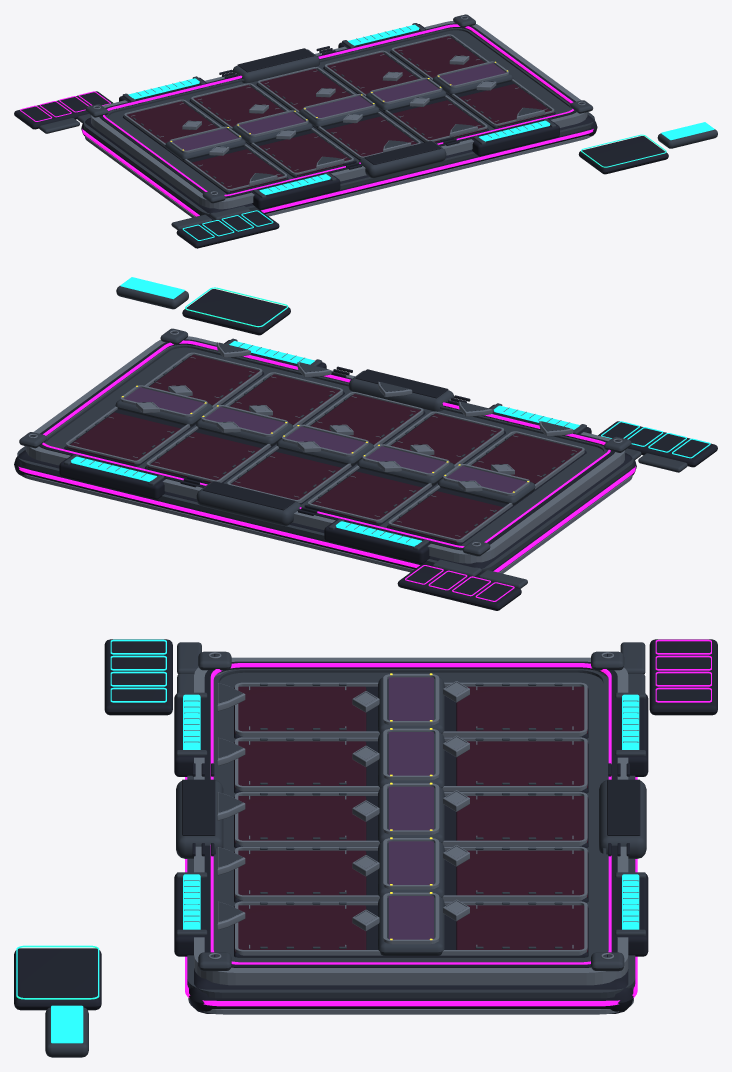
File: ouroboros-board-v4-base.glb
3 renders of one model, top to bottom at view 1: azimuth 30°, elevation 25°; view 2: azimuth 150°, elevation 25°; view 3: azimuth 270°, elevation 25°, orthographic. The views are drawn at different scales.
Parts seen in each view (by area): view 1: Table_wine-black_field_glass, Table_graphite_titanium, Table_obsidian_polymer, Table_milled_gunmetal, Table_magenta_inlay, Table_Location_smoked_violet, Table_cyan_Data_Center_core, opponent_resource_screen, local_resource_screen; view 2: Table_wine-black_field_glass, Table_graphite_titanium, Table_obsidian_polymer, Table_milled_gunmetal, Table_magenta_inlay, Table_Location_smoked_violet, Table_cyan_Data_Center_core, opponent_resource_screen, local_resource_screen; view 3: Table_wine-black_field_glass, Table_milled_gunmetal, Table_graphite_titanium, Table_obsidian_polymer, Table_Location_smoked_violet, Table_magenta_inlay, Table_cyan_Data_Center_core, local_resource_screen, opponent_resource_screen.
Boxes of the visible parts, x1,y1,x2,y2 form: Table_wine-black_field_glass: (127, 36, 553, 191); Table_graphite_titanium: (39, 14, 717, 230); Table_obsidian_polymer: (14, 17, 668, 248); Table_milled_gunmetal: (85, 16, 591, 217); Table_magenta_inlay: (20, 24, 593, 216); Table_Location_smoked_violet: (172, 63, 505, 150); Table_cyan_Data_Center_core: (128, 24, 714, 240); opponent_resource_screen: (237, 48, 314, 72); local_resource_screen: (364, 141, 441, 164); Table_wine-black_field_glass: (67, 354, 581, 542); Table_graphite_titanium: (17, 286, 687, 588); Table_obsidian_polymer: (14, 289, 717, 610); Table_milled_gunmetal: (21, 330, 632, 573); Table_magenta_inlay: (18, 340, 635, 601); Table_Location_smoked_violet: (124, 387, 526, 492); Table_cyan_Data_Center_core: (71, 277, 710, 546); opponent_resource_screen: (202, 481, 295, 510); local_resource_screen: (355, 369, 448, 398); Table_wine-black_field_glass: (234, 686, 587, 952); Table_milled_gunmetal: (184, 652, 638, 1014); Table_graphite_titanium: (45, 642, 646, 1057); Table_obsidian_polymer: (14, 639, 717, 1013); Table_Location_smoked_violet: (388, 677, 433, 939); Table_magenta_inlay: (185, 639, 711, 1006); Table_cyan_Data_Center_core: (51, 639, 639, 1043); local_resource_screen: (182, 779, 215, 835); opponent_resource_screen: (607, 779, 640, 835).
Size of the model in its own units: 21.2 by 1.5 by 15.24.
